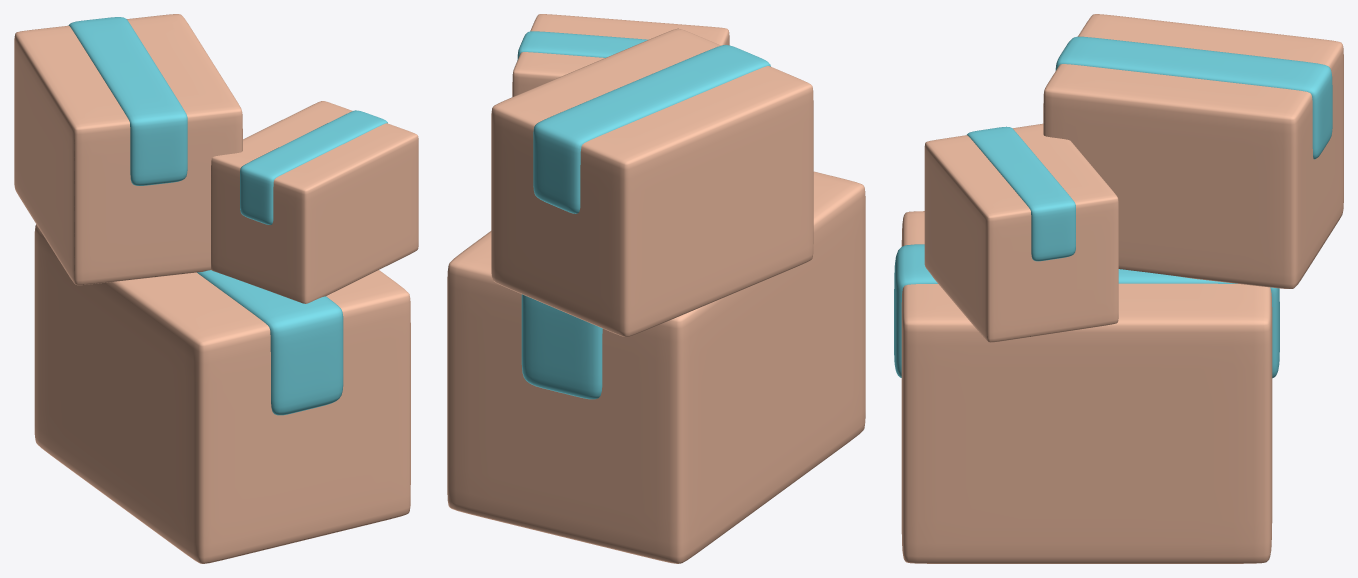
File: uploads_files_4073128_AmazonBoxes.fbx
3 renders of one model, left to right at view 1: azimuth 30°, elevation 25°; view 2: azimuth 150°, elevation 25°; view 3: azimuth 270°, elevation 25°, orthographic. The views are drawn at different scales.
Visible parts, largest first — view 1: Cube, Cube.002, Cube.004, Cube.003, Cube.001, Cube.005; view 2: Cube, Cube.002, Cube.003, Cube.001, Cube.004, Cube.005; view 3: Cube, Cube.002, Cube.004, Cube.003, Cube.005, Cube.001.
Part boxes in pixels (x1,y1,x2,y2): Cube: (34,224,410,563); Cube.002: (14,14,242,285); Cube.004: (211,101,418,303); Cube.003: (68,17,187,185); Cube.001: (197,270,343,415); Cube.005: (240,110,387,224); Cube: (447,171,865,563); Cube.002: (491,28,813,336); Cube.003: (533,45,770,213); Cube.001: (521,294,602,399); Cube.004: (512,14,729,96); Cube.005: (517,31,648,60); Cube: (901,211,1272,563); Cube.002: (1043,14,1343,288); Cube.004: (924,123,1118,342); Cube.003: (1055,36,1332,159); Cube.005: (967,126,1075,261); Cube.001: (894,244,1279,378).
Size of the model in its own units: 276 by 347 by 332.
